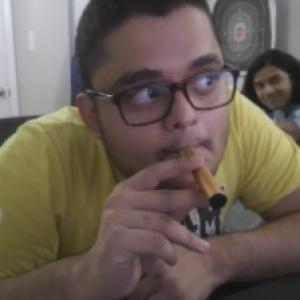Golden-E-Ciggirate: (180, 142, 229, 210)
